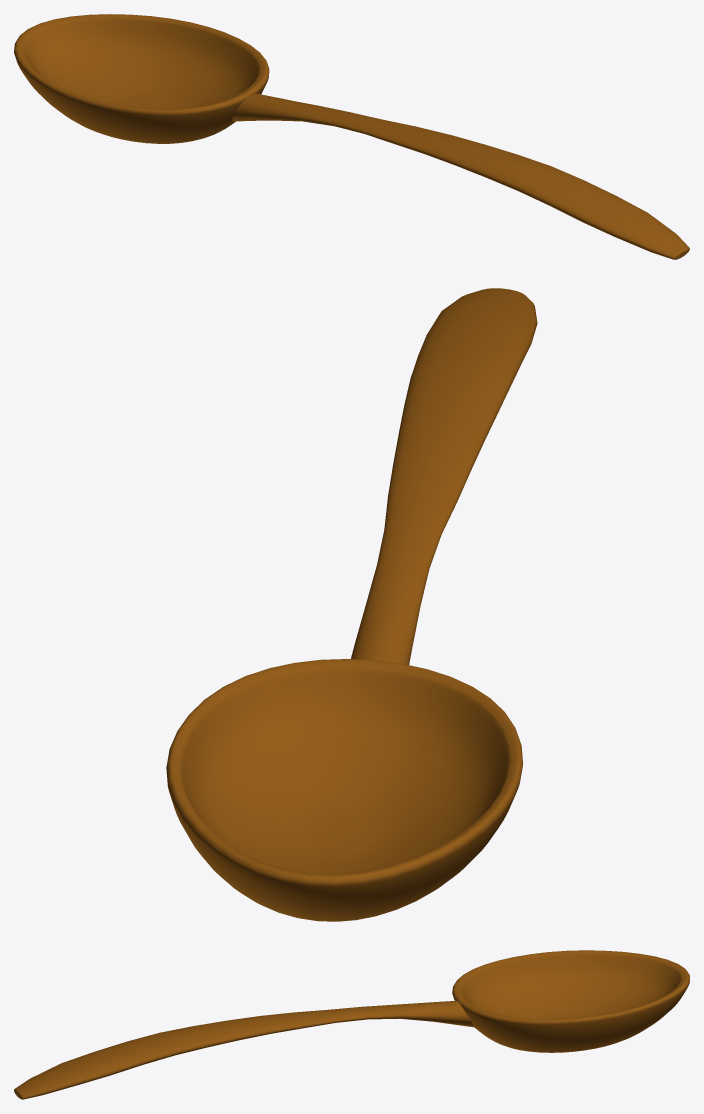
Rendered from spoon_exp.fbx.
3 views of the same model, one above another, from view 1: azimuth 30°, elevation 25°; view 2: azimuth 150°, elevation 25°; view 3: azimuth 270°, elevation 25° (orthographic). The views are drawn at different scales.
Parts seen in each view (by area): view 1: Teatime_q:pCylinder7, Teatime_q:pCylinder8; view 2: Teatime_q:pCylinder7, Teatime_q:pCylinder8; view 3: Teatime_q:pCylinder7, Teatime_q:pCylinder8.
Part boxes in pixels (x1,y1,x2,y2): Teatime_q:pCylinder7: (14,14,269,143); Teatime_q:pCylinder8: (232,93,689,259); Teatime_q:pCylinder7: (166,659,522,921); Teatime_q:pCylinder8: (351,288,537,664); Teatime_q:pCylinder7: (452,950,689,1052); Teatime_q:pCylinder8: (14,1000,474,1099).
Bounding box in the file's own units: 1.02 × 0.2419 × 2.09.
